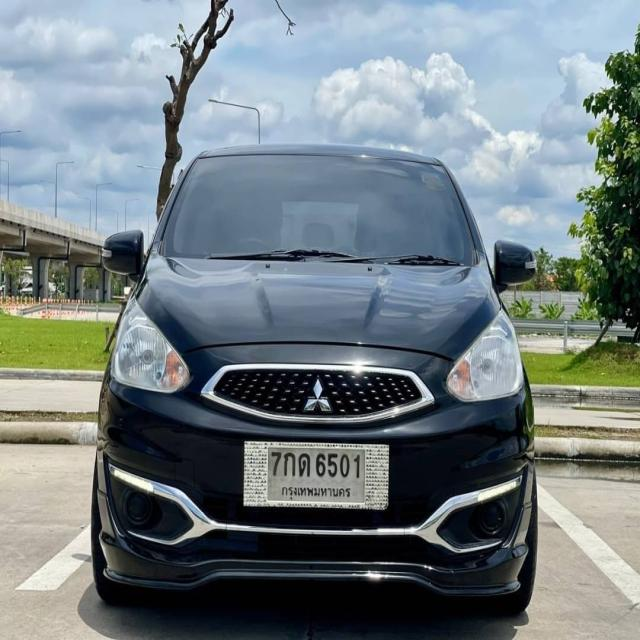license_plate: (268, 445, 366, 508)
